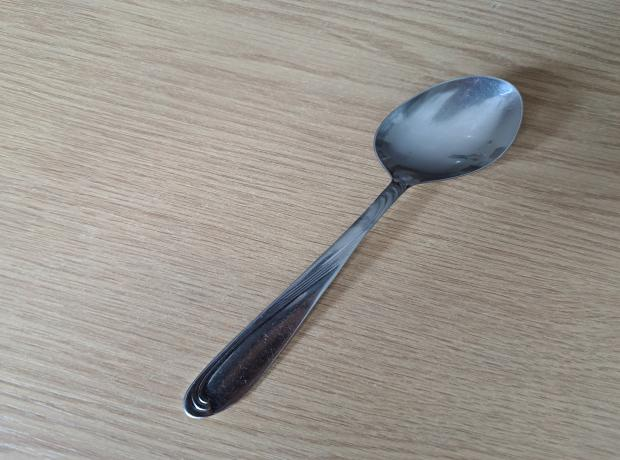metal: (168, 68, 526, 405)
